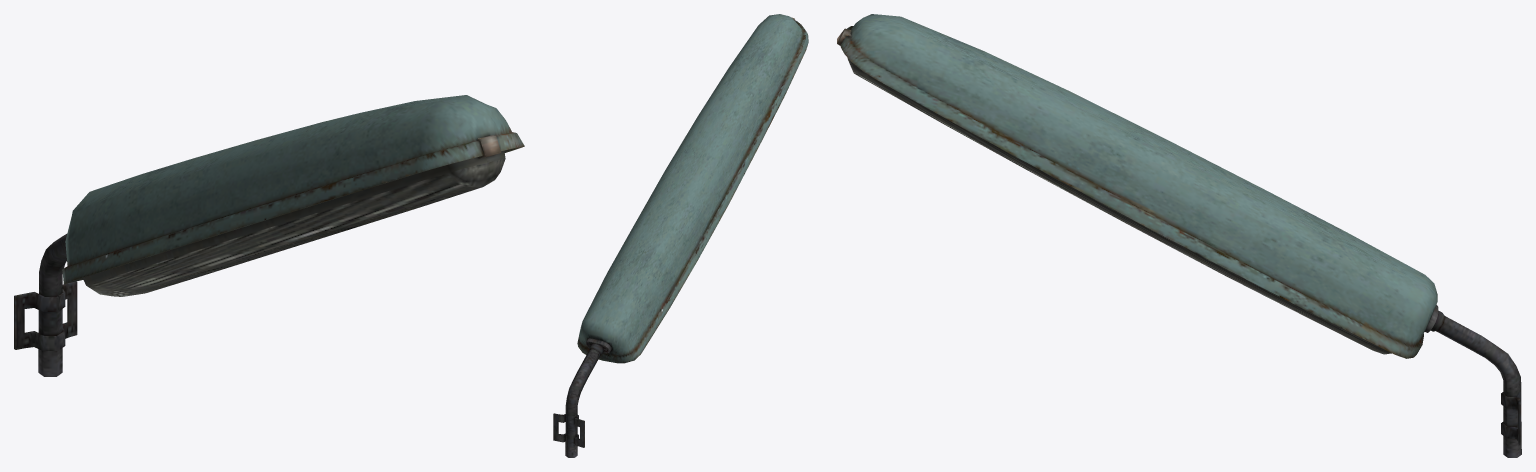
The model's file is sm35_036_fluorescentlamp01a.fbx.
3 views of the same model, side by side, from view 1: azimuth 30°, elevation 25°; view 2: azimuth 150°, elevation 25°; view 3: azimuth 270°, elevation 25° (orthographic). The views are drawn at different scales.
Visible parts, largest first — view 1: LOD_1_Group_0_Sub_1__sm35_036_FluorescentLamp01A_A_Mat, LOD_1_Group_0_Sub_2__sm35_036_FluorescentLamp01A_A_Mat_Env_E; view 2: LOD_1_Group_0_Sub_1__sm35_036_FluorescentLamp01A_A_Mat; view 3: LOD_1_Group_0_Sub_1__sm35_036_FluorescentLamp01A_A_Mat, LOD_1_Group_0_Sub_2__sm35_036_FluorescentLamp01A_A_Mat_Env_E.
Boxes of the visible parts, x1,y1,x2,y2 form: LOD_1_Group_0_Sub_1__sm35_036_FluorescentLamp01A_A_Mat: (14, 95, 524, 376); LOD_1_Group_0_Sub_2__sm35_036_FluorescentLamp01A_A_Mat_Env_E: (83, 151, 505, 296); LOD_1_Group_0_Sub_1__sm35_036_FluorescentLamp01A_A_Mat: (553, 14, 808, 457); LOD_1_Group_0_Sub_1__sm35_036_FluorescentLamp01A_A_Mat: (837, 14, 1521, 457); LOD_1_Group_0_Sub_2__sm35_036_FluorescentLamp01A_A_Mat_Env_E: (847, 58, 1391, 354).
Bounding box in the file's own units: 0.1486 × 0.5898 × 0.8408.
